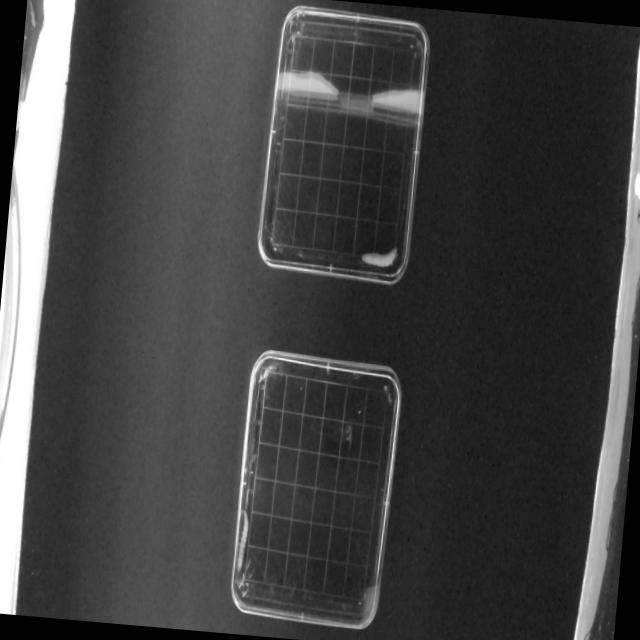larva: (235, 510, 251, 574), (360, 244, 398, 268)
